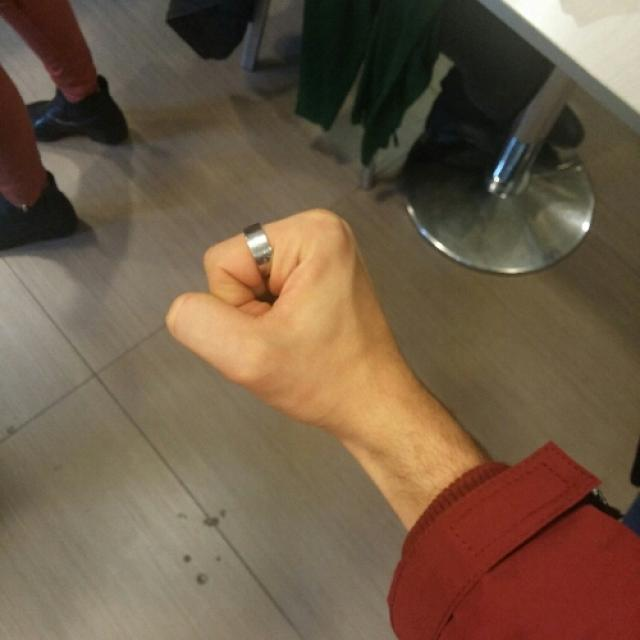fist: (156, 201, 402, 434)
